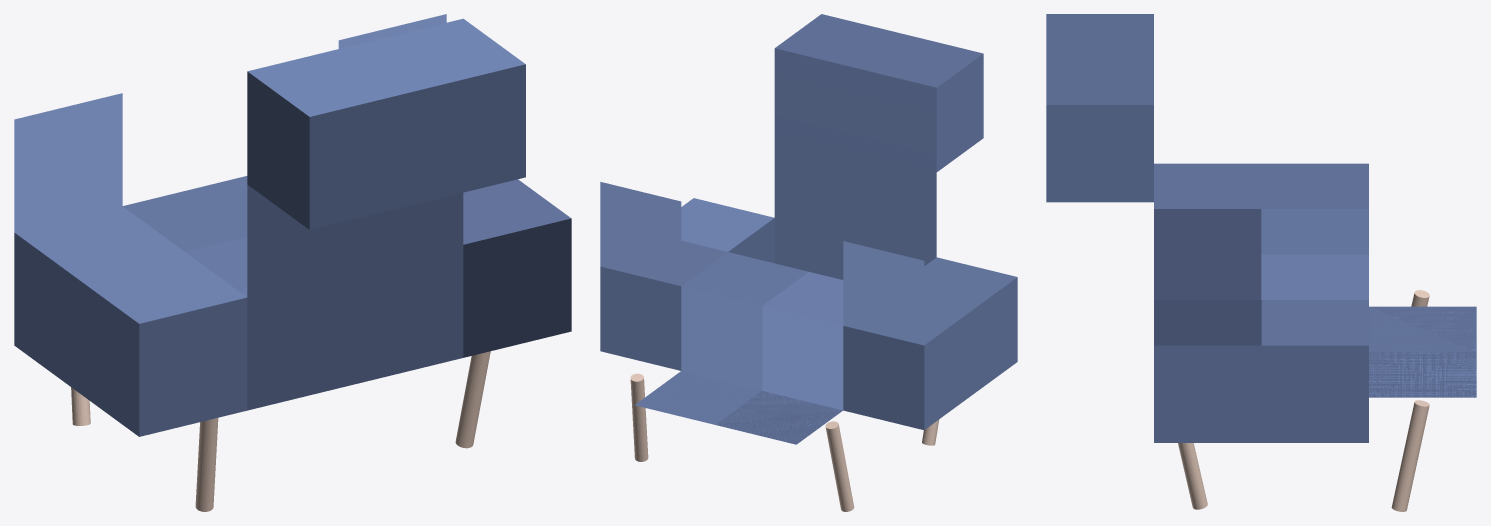
The picture shows the model from 3 angles, left to right: view 1: azimuth 30°, elevation 25°; view 2: azimuth 150°, elevation 25°; view 3: azimuth 270°, elevation 25°; orthographic projection. The views are drawn at different scales.
Visible parts, largest first — view 1: object 5, Back_Right_Leg, Back_Left_Leg; view 2: object 5, Front_Left_Leg, Front_Right_Leg; view 3: object 5, Front_Right_Leg, Back_Right_Leg.
Part boxes in pixels (bbox=[...]): object 5: bbox=[14, 14, 571, 436]; Back_Right_Leg: bbox=[455, 351, 490, 448]; Back_Left_Leg: bbox=[195, 418, 218, 511]; object 5: bbox=[600, 14, 1017, 444]; Front_Left_Leg: bbox=[825, 421, 854, 511]; Front_Right_Leg: bbox=[630, 373, 648, 461]; object 5: bbox=[1046, 14, 1476, 442]; Front_Right_Leg: bbox=[1391, 400, 1429, 511]; Back_Right_Leg: bbox=[1178, 443, 1207, 509].
Bounding box in the file's own units: 1.94 × 1.94 × 1.94.
